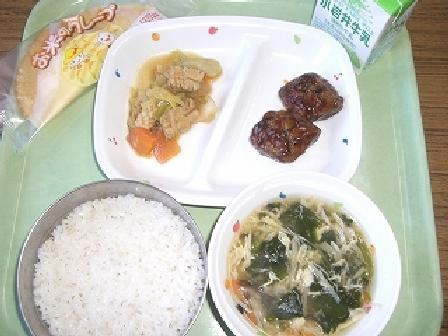Milk: (309, 0, 415, 48)
Rice: (20, 180, 208, 335)
Soups: (210, 175, 397, 335)
cutlet: (240, 66, 348, 167)
pastry: (7, 7, 134, 121)
vegetable based cooked food: (122, 45, 220, 157)
